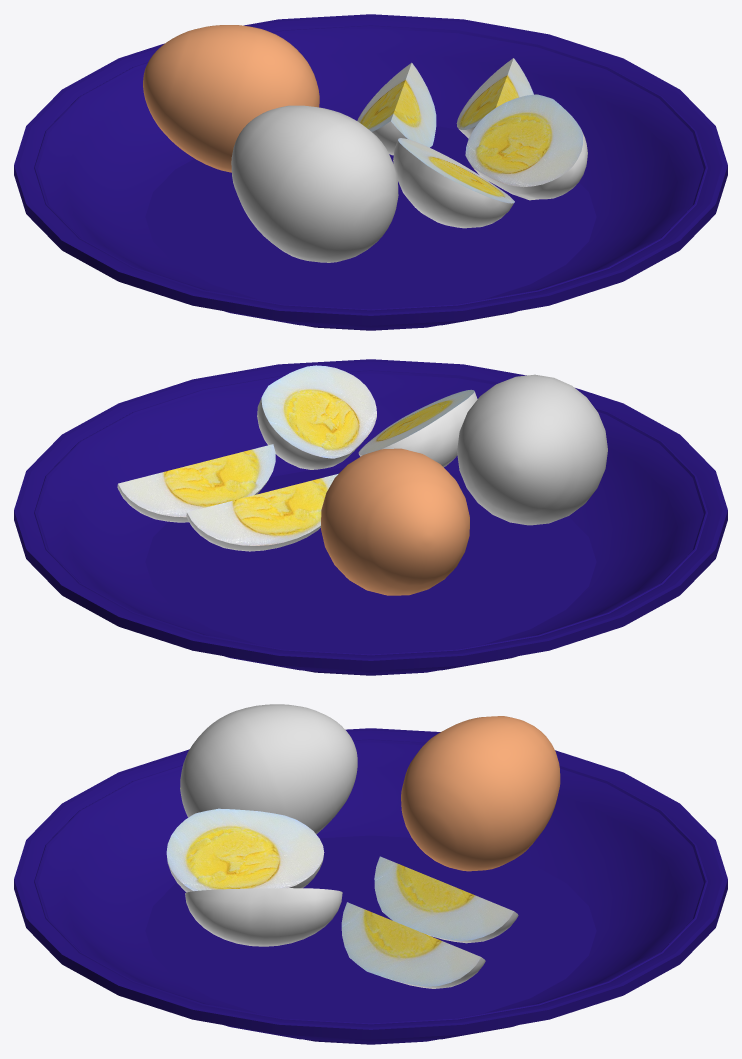
The model's file is Telor.fbx.
3 renders of one model, top to bottom at view 1: azimuth 30°, elevation 25°; view 2: azimuth 150°, elevation 25°; view 3: azimuth 270°, elevation 25°, orthographic.
Parts seen in each view (by area): view 1: piring, Telur.002, Telur, telor 1.001, telor 1, telor 2, telor 2.001; view 2: piring, Telur.002, Telur, telor 1.001, telor 2.001, telor 2, telor 1; view 3: piring, Telur, Telur.002, telor 1, telor 1.001, telor 2.001, telor 2.
Part boxes in pixels (x1,y1,x2,y2): piring: (14, 14, 727, 330); Telur.002: (231, 105, 398, 262); Telur: (143, 25, 319, 172); telor 1.001: (465, 94, 587, 200); telor 1: (393, 138, 514, 228); telor 2: (357, 62, 436, 155); telor 2.001: (456, 58, 533, 138); piring: (14, 359, 727, 675); Telur.002: (457, 374, 607, 525); Telur: (321, 448, 469, 595); telor 1.001: (257, 365, 376, 469); telor 2.001: (117, 444, 275, 522); telor 2: (186, 474, 338, 551); telor 1: (358, 389, 477, 467); piring: (14, 728, 727, 1044); Telur: (401, 716, 560, 871); Telur.002: (180, 704, 357, 834); telor 1: (166, 808, 324, 892); telor 1.001: (185, 888, 342, 946); telor 2.001: (341, 902, 485, 988); telor 2: (374, 856, 518, 943).
Size of the model in its own units: 9706 by 2840 by 9706.
